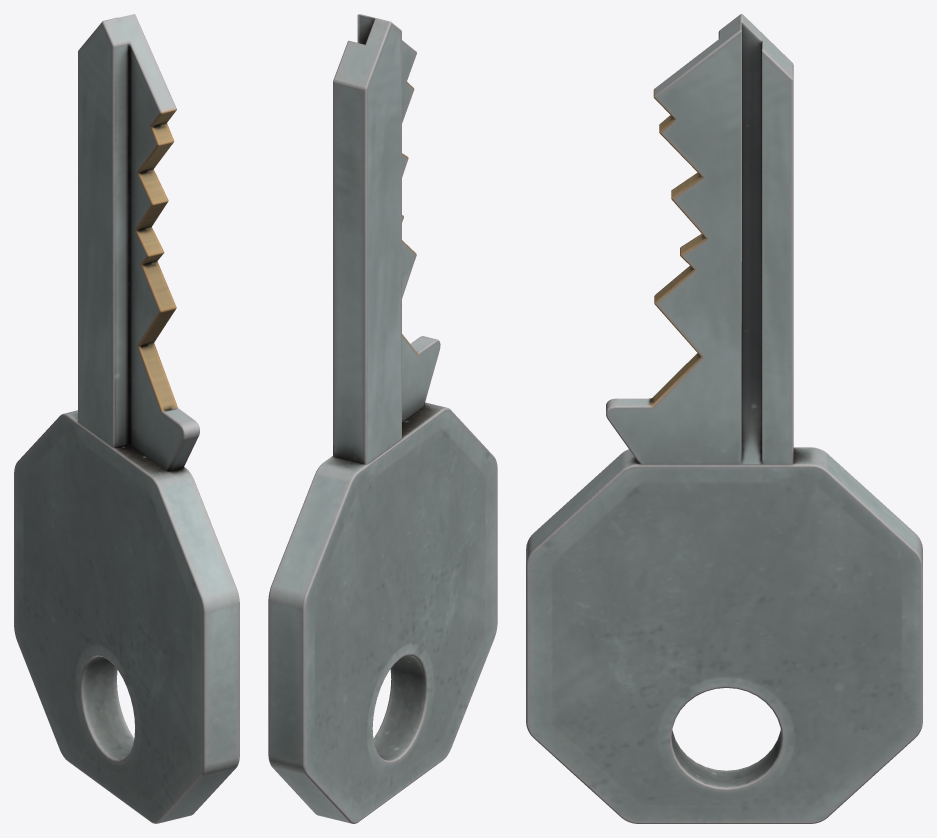
File: X-Key.fbx
3 renders of one model, left to right at view 1: azimuth 30°, elevation 25°; view 2: azimuth 150°, elevation 25°; view 3: azimuth 270°, elevation 25°, orthographic. The views are drawn at different scales.
Parts seen in each view (by area): view 1: Object_3, Object_7, Object_4; view 2: Object_3, Object_7, Object_4; view 3: Object_3, Object_7, Object_4.
Boxes of the visible parts, bbox=[...] form: Object_3: bbox=[14, 14, 239, 823]; Object_7: bbox=[78, 14, 199, 471]; Object_4: bbox=[14, 413, 239, 823]; Object_3: bbox=[269, 19, 497, 823]; Object_7: bbox=[333, 14, 440, 464]; Object_4: bbox=[268, 407, 497, 823]; Object_3: bbox=[526, 15, 922, 822]; Object_7: bbox=[606, 14, 793, 464]; Object_4: bbox=[526, 447, 922, 823].
Size of the model in its own units: 720 by 14469 by 6554.
